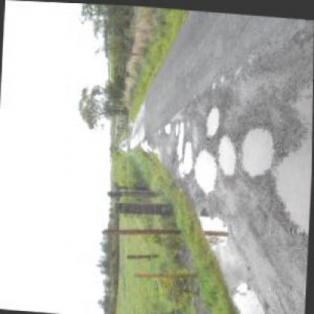Hueco: (268, 127, 312, 238), (238, 121, 274, 176), (286, 72, 312, 127), (192, 144, 217, 190), (214, 132, 238, 175), (203, 100, 221, 136), (179, 138, 194, 176), (177, 117, 186, 157), (164, 120, 172, 132)
